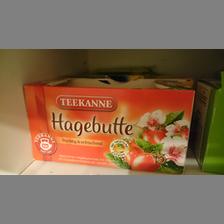tea: (23, 76, 196, 174)
